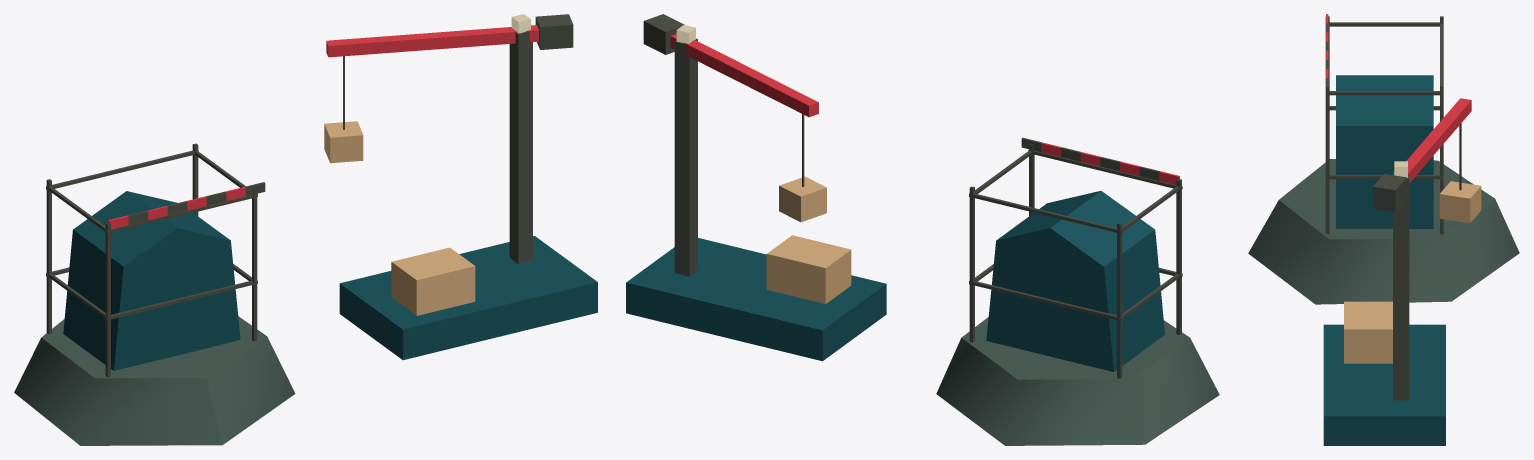
The model's file is laboratory.glb.
3 views of the same model, side by side, from view 1: azimuth 30°, elevation 25°; view 2: azimuth 150°, elevation 25°; view 3: azimuth 270°, elevation 25° (orthographic). The views are drawn at different scales.
Visible parts, largest first — view 1: Laboratory, toy_swing, toy_lower; view 2: Laboratory, toy_swing, toy_lower; view 3: Laboratory, toy_swing, toy_lower.
Part boxes in pixels (bbox=[...]): Laboratory: bbox=[14, 14, 597, 445]; toy_swing: bbox=[326, 14, 573, 57]; toy_lower: bbox=[324, 121, 363, 163]; Laboratory: bbox=[626, 25, 1219, 445]; toy_swing: bbox=[643, 14, 818, 117]; toy_lower: bbox=[779, 176, 826, 222]; Laboratory: bbox=[1248, 14, 1519, 445]; toy_swing: bbox=[1373, 98, 1471, 212]; toy_lower: bbox=[1439, 181, 1481, 223].
Bounding box in the file's own units: 21.75 × 10.87 × 10.
